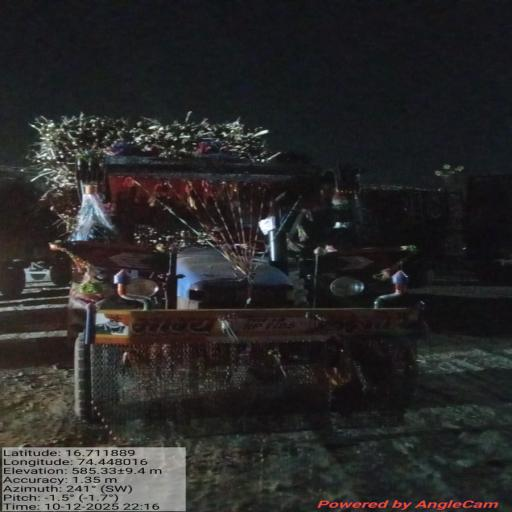number_plate: (214, 311, 358, 339)
